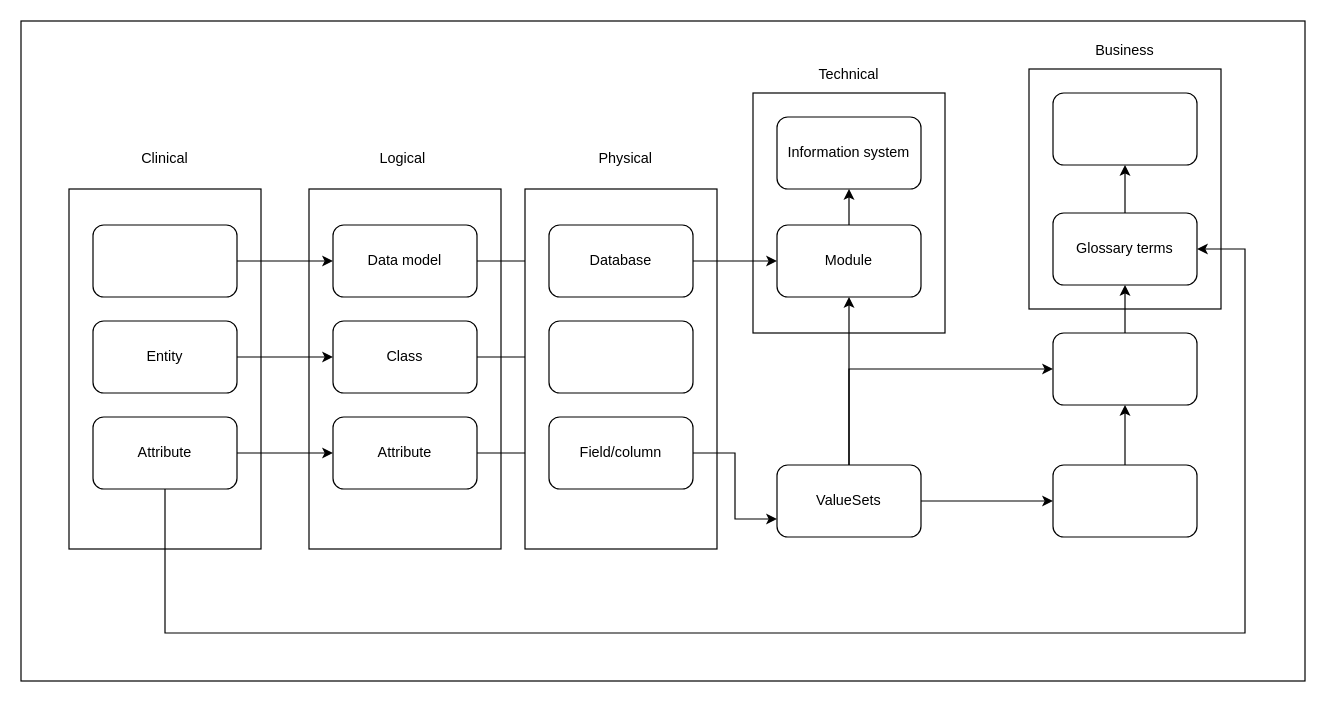
Image size: 1326x702. Some labels were removed from this diagram. The shapes that lost their labels are listed below. From the top down, each one's centre as x and y in pixels, then its label:
the point at 1124,128: Business glossary
the point at 164,260: Information model
the point at 620,356: Field/table
the point at 1124,368: Terminology
the point at 1124,500: CodeSystems
